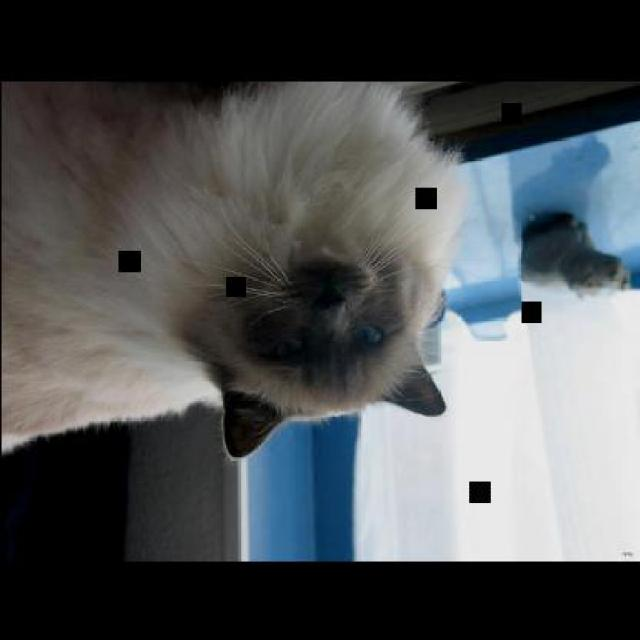unauthorized: (0, 79, 469, 462), (517, 209, 631, 294)
